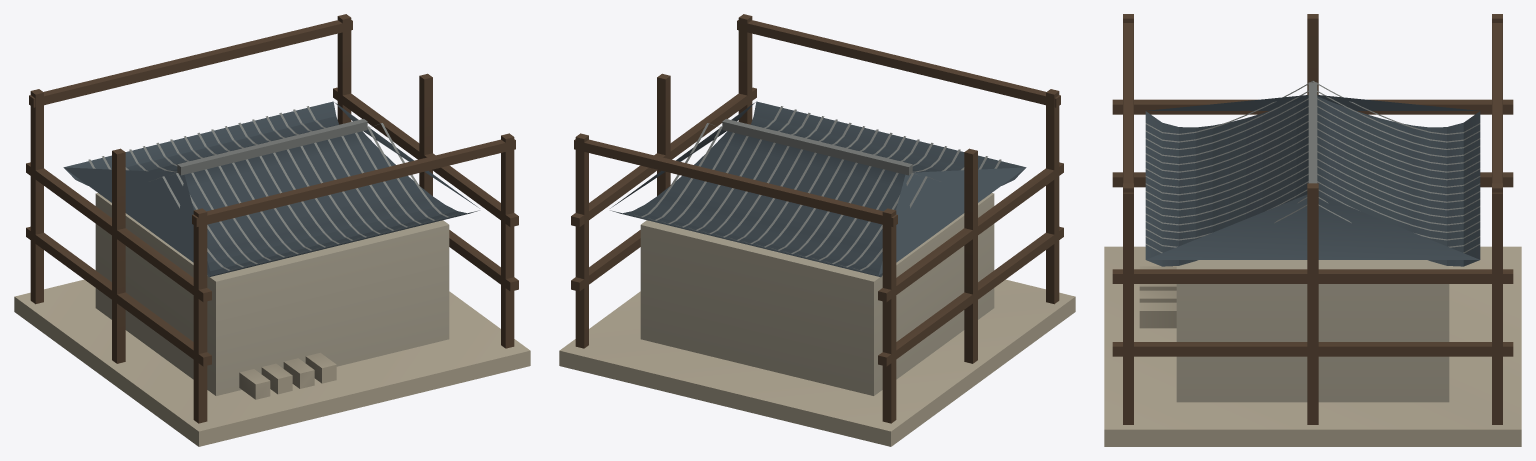
File: worksite-2.glb
3 views of the same model, side by side, from view 1: azimuth 30°, elevation 25°; view 2: azimuth 150°, elevation 25°; view 3: azimuth 270°, elevation 25° (orthographic). The views are drawn at different scales.
Visible parts, largest first — view 1: Construction 2 1, Construction 2 3, Construction 2 2, Construction 2 0, Construction 2 5; view 2: Construction 2 1, Construction 2 3, Construction 2 2, Construction 2 0, Construction 2 5; view 3: Construction 2 2, Construction 2 0, Construction 2 1, Construction 2 3, Construction 2 5.
Part boxes in pixels (box(x1,y1,x2,y2)): Construction 2 1: box(95, 193, 449, 395); Construction 2 3: box(26, 14, 518, 423); Construction 2 2: box(63, 101, 479, 277); Construction 2 0: box(14, 279, 530, 446); Construction 2 5: box(88, 106, 455, 270); Construction 2 1: box(640, 193, 994, 395); Construction 2 3: box(571, 14, 1063, 423); Construction 2 2: box(610, 101, 1026, 277); Construction 2 0: box(559, 279, 1075, 446); Construction 2 5: box(634, 106, 1001, 270); Construction 2 2: box(1145, 95, 1480, 266); Construction 2 0: box(1104, 246, 1521, 446); Construction 2 1: box(1176, 260, 1449, 402); Construction 2 3: box(1112, 14, 1513, 424); Construction 2 5: box(1145, 81, 1480, 253).
Size of the model in its own units: 2.7 by 1.75 by 2.6.
